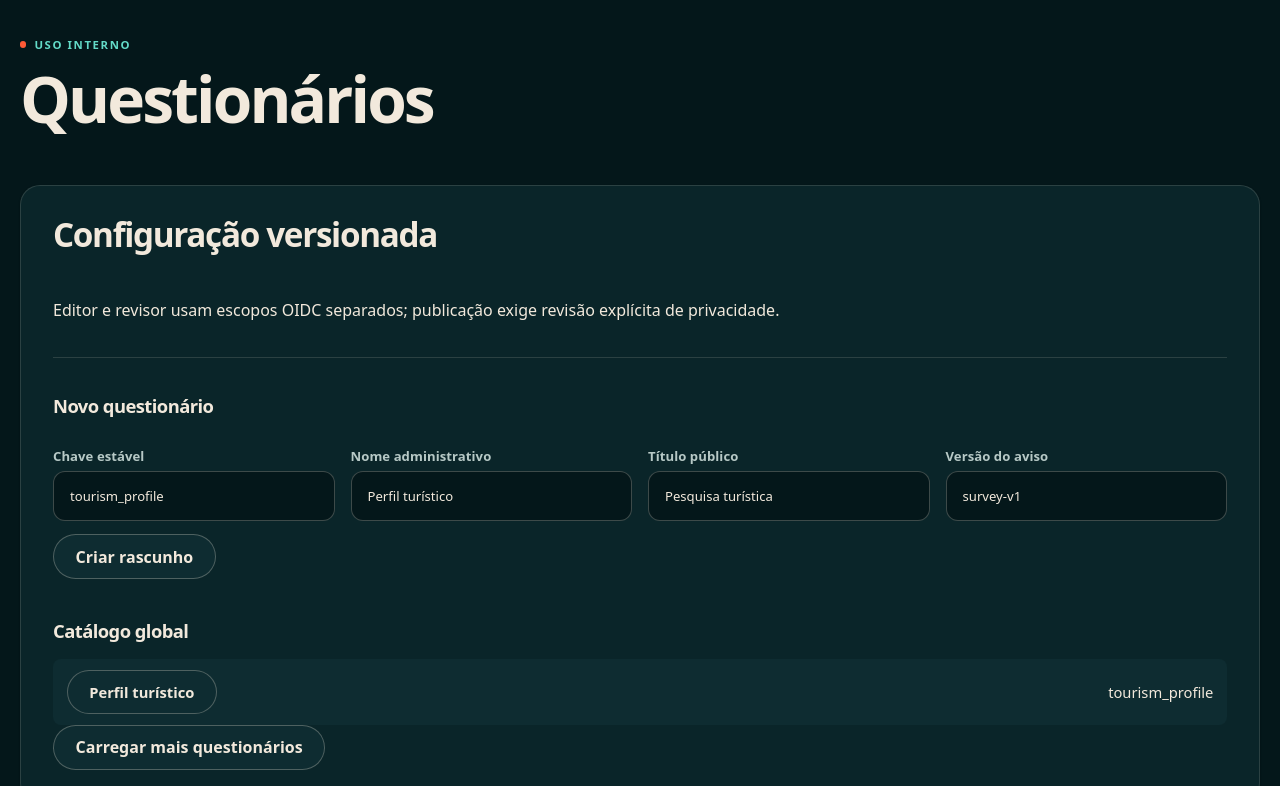
it: administração de questionários › pagina e remove duplicatas do catálogo e das versões
The width and height of the screenshot is (1280, 786).
Click the button "Carregar mais questionários" at (189, 747), box [53,725,325,770]
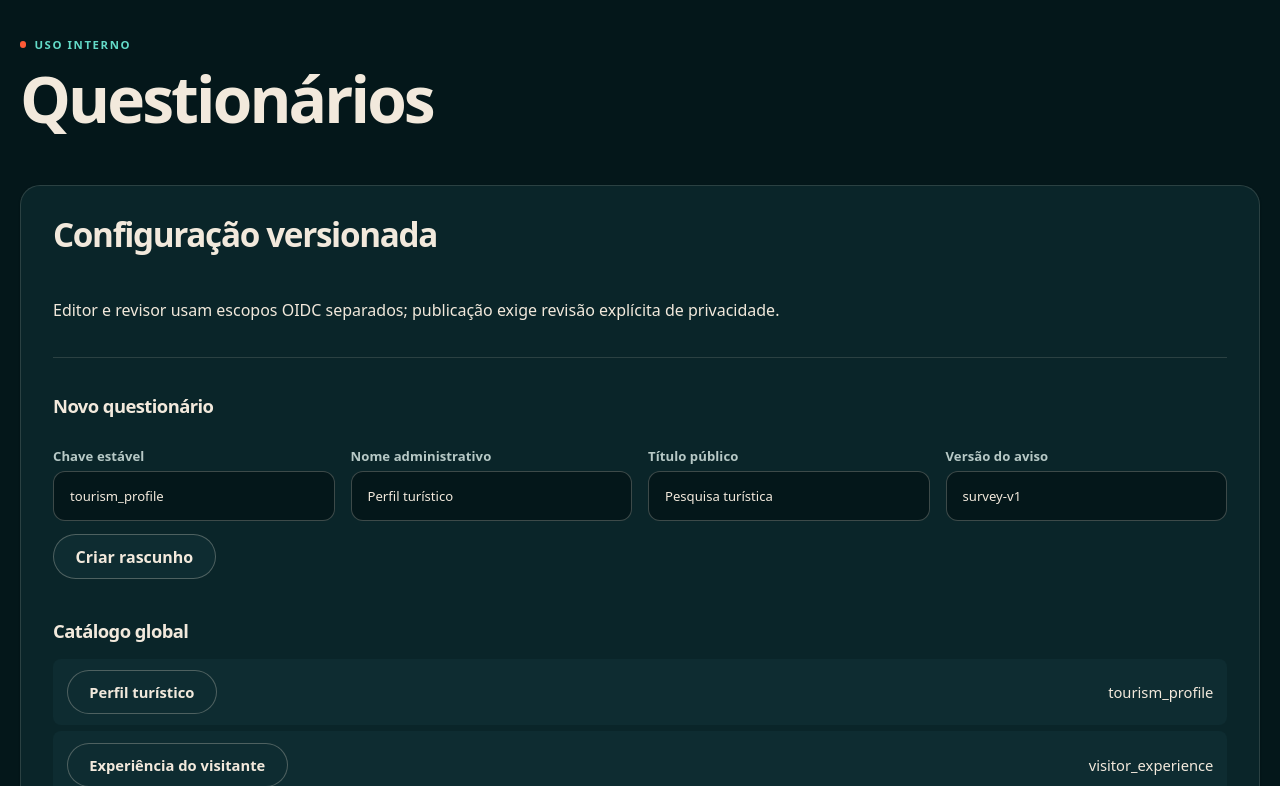
Result: the button "Experiência do visitante" is shown at [67,742,288,785]
Click the button "Perfil turístico" at (142, 692), box [67,670,217,714]
(page scrolled)
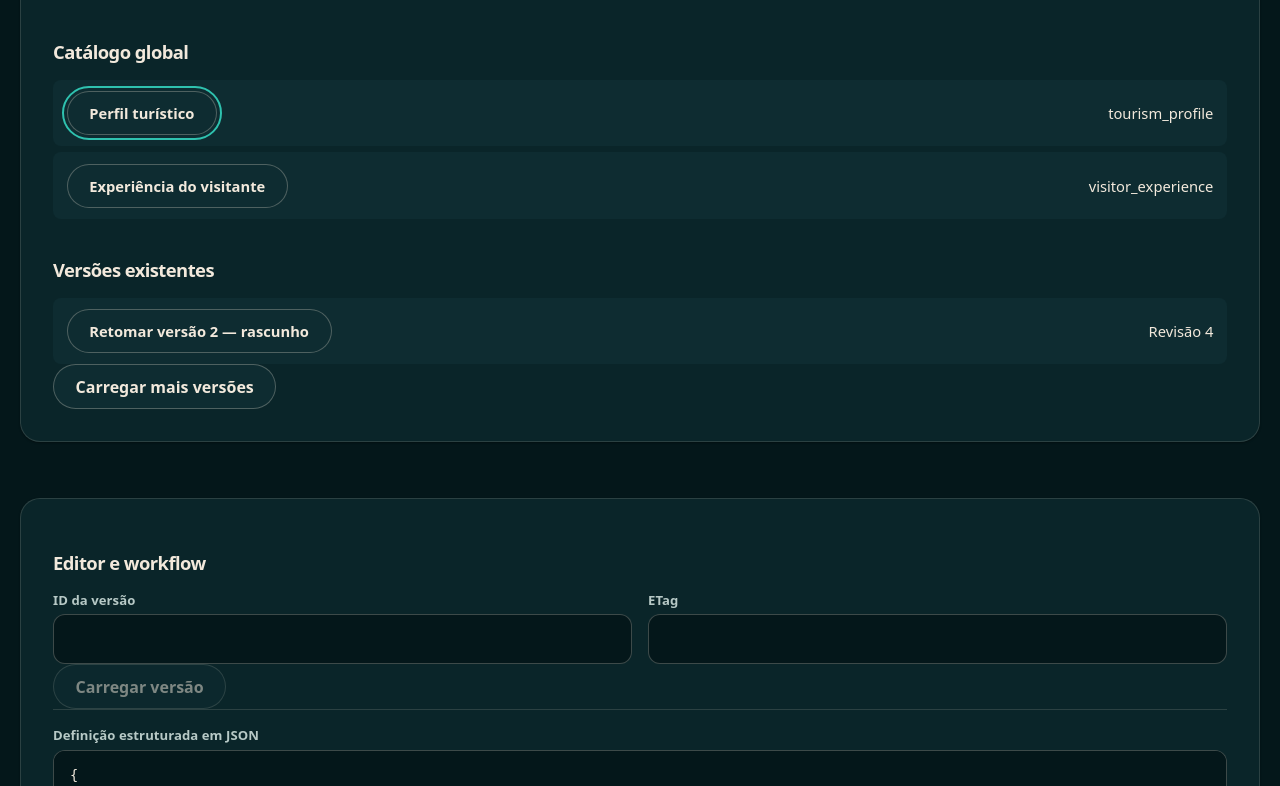
Click the button "Carregar mais versões" at (165, 387), box [53,364,276,409]
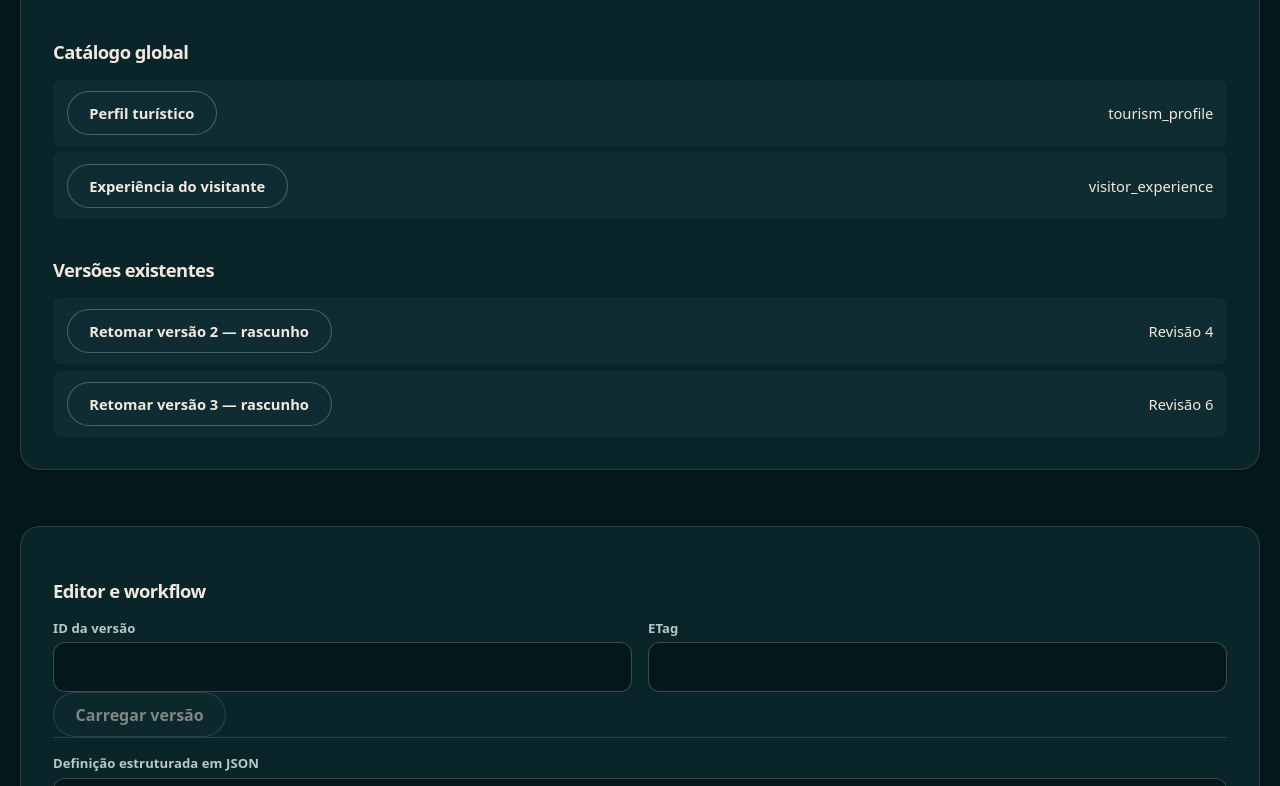
Result: the number of buttons "Retomar versão 2 — rascunho" is 1 at [67,309,332,353]
Result: the button "Retomar versão 3 — rascunho" is shown at [67,382,332,426]
